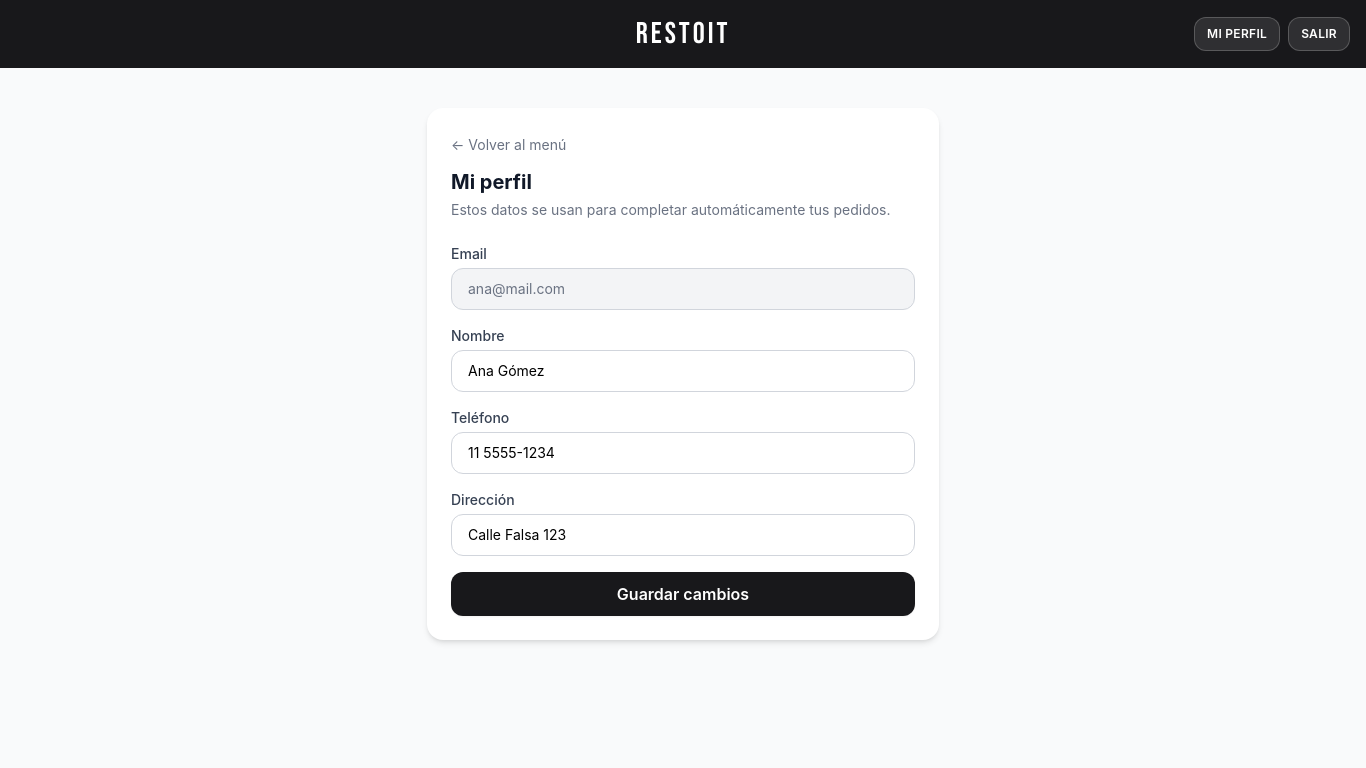
ProfilePage › muestra el error si no se pudo guardar
The width and height of the screenshot is (1366, 768).
Click the button "Guardar cambios" at coordinates (683, 594), box [451,572,915,616]
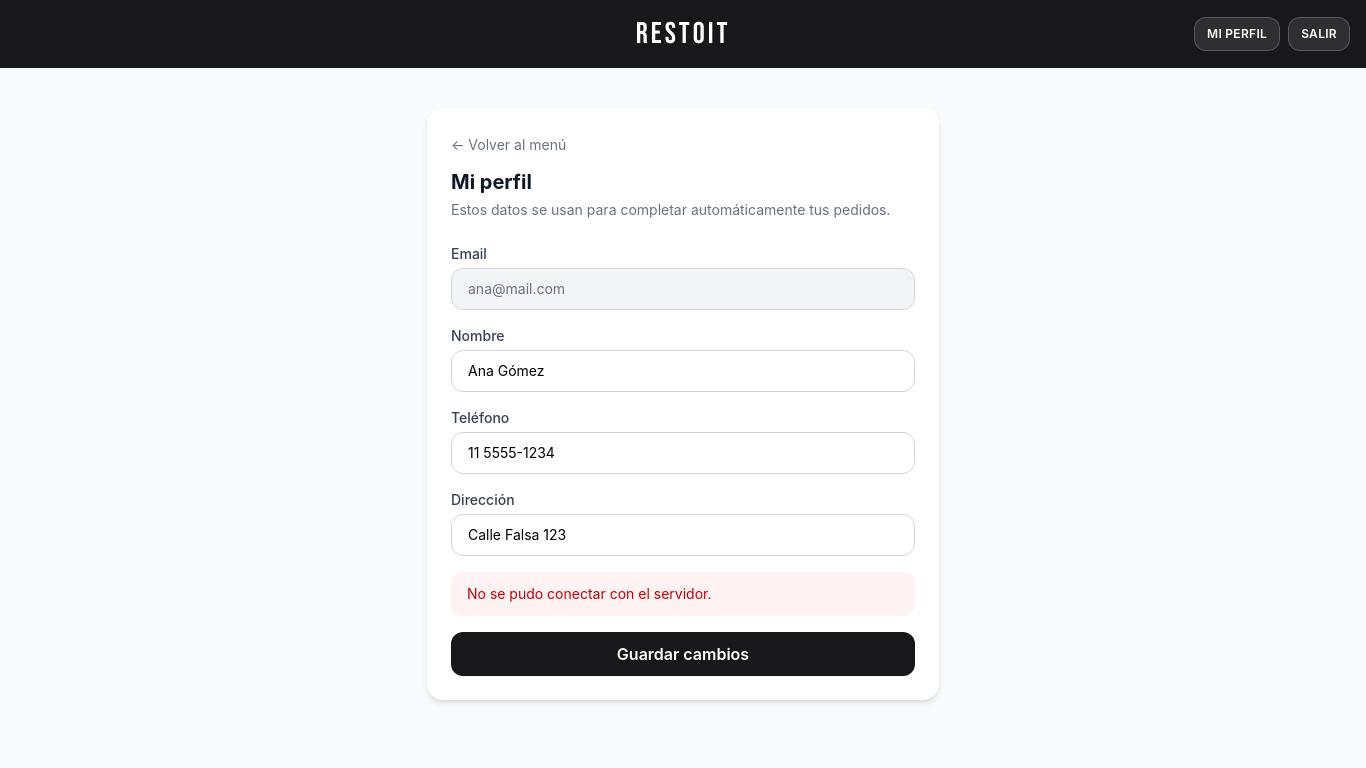
Result: the message reads "No se pudo conectar con el servidor." at [467,585,712,602]
